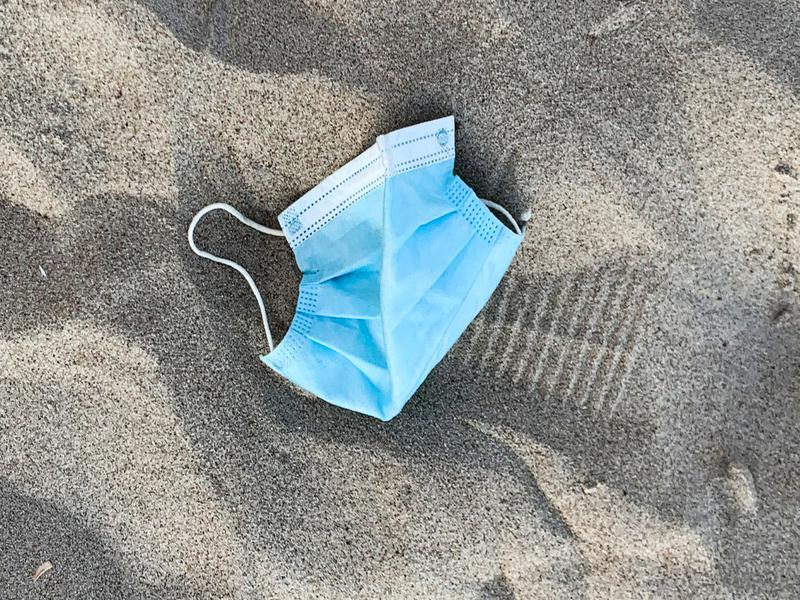mask: (179, 102, 538, 425)
